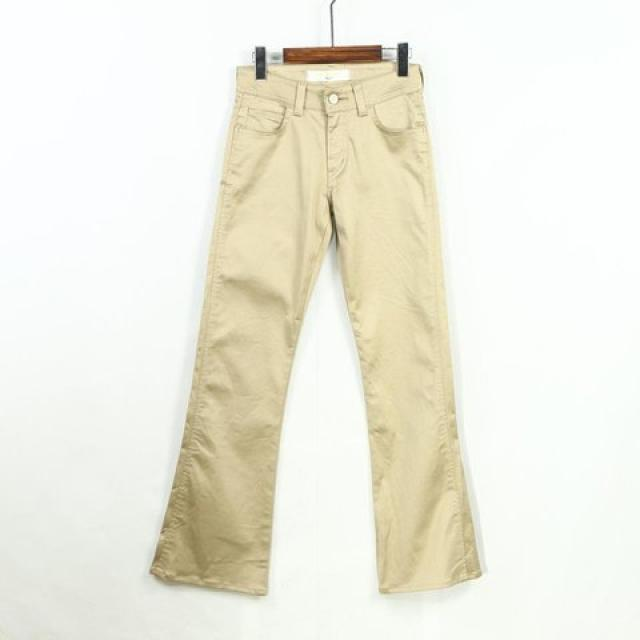long-pants: (146, 61, 486, 600)
